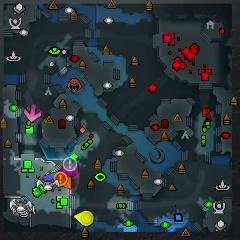Other: (63, 158, 78, 171), (54, 172, 67, 185)
p1: (42, 173, 57, 189)
p3: (57, 160, 79, 177)
p4: (73, 209, 94, 227)
p5: (57, 175, 72, 190)
x1: (25, 103, 42, 121)
